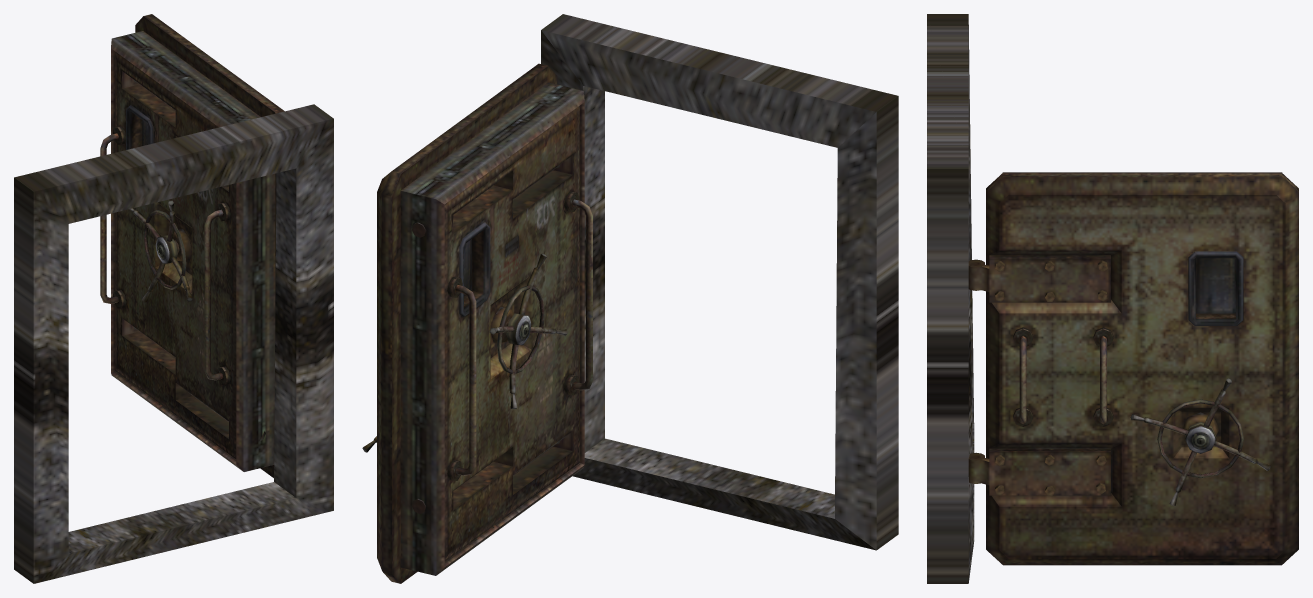
File: door_bunker_open.obj
The picture shows the model from 3 angles, left to right: view 1: azimuth 30°, elevation 25°; view 2: azimuth 150°, elevation 25°; view 3: azimuth 270°, elevation 25°; orthographic projection. The views are drawn at different scales.
Parts seen in each view (by area): view 1: Plane, OGFObject0.236, OGFObject0.042, OGFObject0.038, OGFObject0.237, OGFObject0.039, OGFObject0.046, OGFObject0.110, OGFObject0.051, OGFObject0.273, OGFObject0.055, OGFObject0.040 (+4 smaller); view 2: Plane, OGFObject0.236, OGFObject0.043, OGFObject0.046, OGFObject0.038, OGFObject0.237, OGFObject0.262, OGFObject0.067, OGFObject0.051, OGFObject0.055, OGFObject0.116, OGFObject0.273 (+4 smaller); view 3: OGFObject0.045, Plane, OGFObject0.046, OGFObject0.085, OGFObject0.078, OGFObject0.306, OGFObject0.044, OGFObject0.047, OGFObject0.264, OGFObject0.318, OGFObject0.233, OGFObject0.263 (+6 smaller).
Part boxes in pixels (x1,y1,x2,y2): Plane: [14, 104, 333, 583]; OGFObject0.236: [115, 52, 236, 458]; OGFObject0.042: [236, 173, 275, 471]; OGFObject0.038: [111, 31, 260, 127]; OGFObject0.237: [135, 16, 276, 477]; OGFObject0.039: [111, 48, 115, 372]; OGFObject0.046: [144, 14, 284, 113]; OGFObject0.110: [204, 209, 222, 380]; OGFObject0.051: [122, 331, 175, 374]; OGFObject0.273: [122, 84, 175, 127]; OGFObject0.055: [176, 396, 228, 438]; OGFObject0.040: [111, 371, 236, 464]; Plane: [541, 14, 898, 550]; OGFObject0.236: [444, 105, 579, 561]; OGFObject0.043: [400, 191, 444, 575]; OGFObject0.046: [377, 63, 547, 583]; OGFObject0.038: [401, 82, 584, 204]; OGFObject0.237: [392, 66, 557, 583]; OGFObject0.262: [580, 102, 584, 464]; OGFObject0.067: [472, 224, 490, 298]; OGFObject0.051: [453, 462, 512, 509]; OGFObject0.055: [513, 446, 572, 494]; OGFObject0.116: [455, 285, 476, 475]; OGFObject0.273: [453, 185, 512, 233]; OGFObject0.045: [999, 195, 1285, 558]; Plane: [927, 14, 974, 583]; OGFObject0.046: [986, 172, 1298, 565]; OGFObject0.085: [989, 258, 1110, 302]; OGFObject0.078: [989, 452, 1110, 495]; OGFObject0.306: [1196, 258, 1235, 313]; OGFObject0.044: [992, 300, 1120, 313]; OGFObject0.047: [992, 493, 1121, 506]; OGFObject0.264: [990, 250, 1120, 255]; OGFObject0.318: [989, 443, 1120, 448]; OGFObject0.233: [1185, 426, 1215, 453]; OGFObject0.263: [1111, 250, 1121, 312].
Size of the model in its own units: 2.12 by 2.5 by 2.03.
